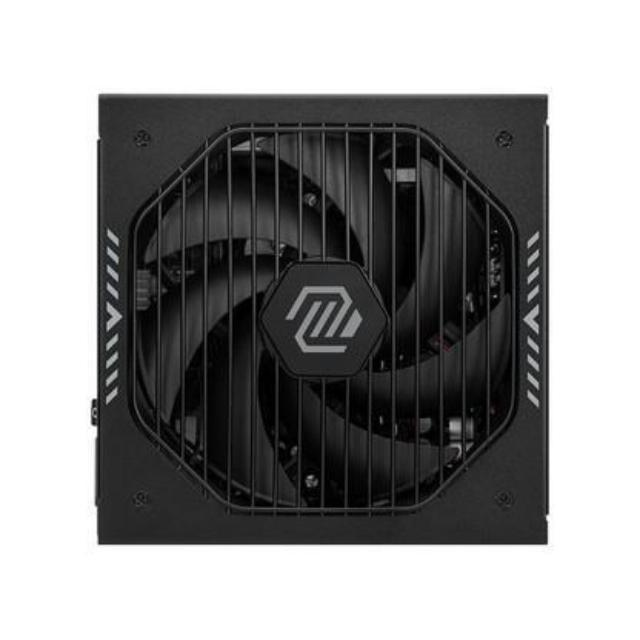PSU: (88, 89, 560, 556)
